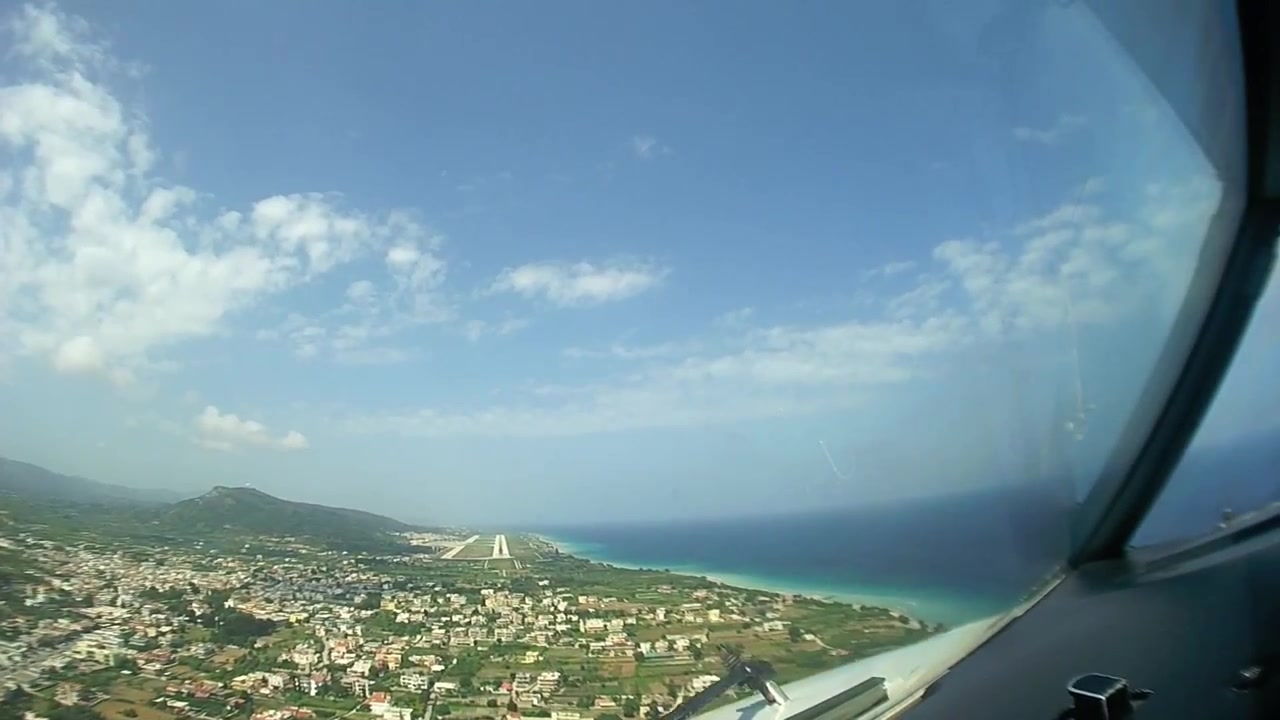runway: (490, 534, 510, 560)
